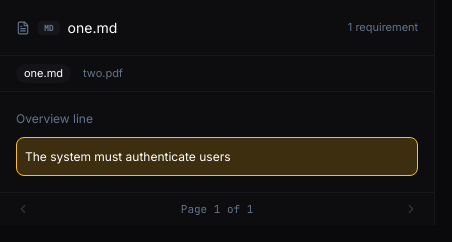
Test case: BrdDocumentViewer — multiple documents › resets to page one when switching back after paging forward
Step 1. Click the button "two.pdf" → (103, 73), box top-left (75, 64), bottom-right (131, 82)
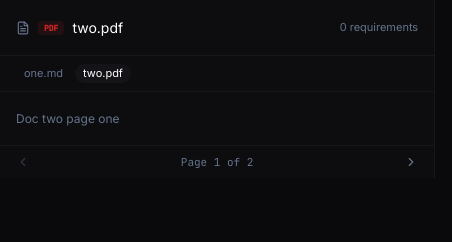
Step 2. Click the button named "Next page" → (411, 162), box top-left (404, 155), bottom-right (418, 169)
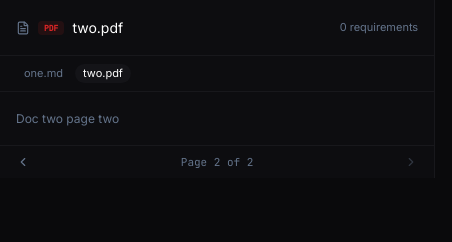
Check: the text "Page 2 of 2" is shown, box top-left (181, 154), bottom-right (253, 170)
Step 3. Click the button "one.md" → (44, 73), box top-left (16, 64), bottom-right (71, 82)
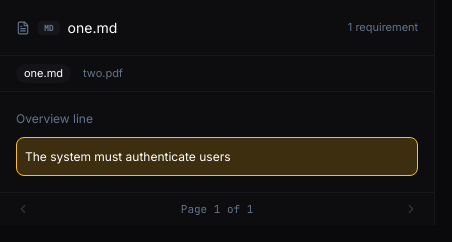
Check: the text "Page 1 of 1" is shown, box top-left (181, 200), bottom-right (253, 217)
